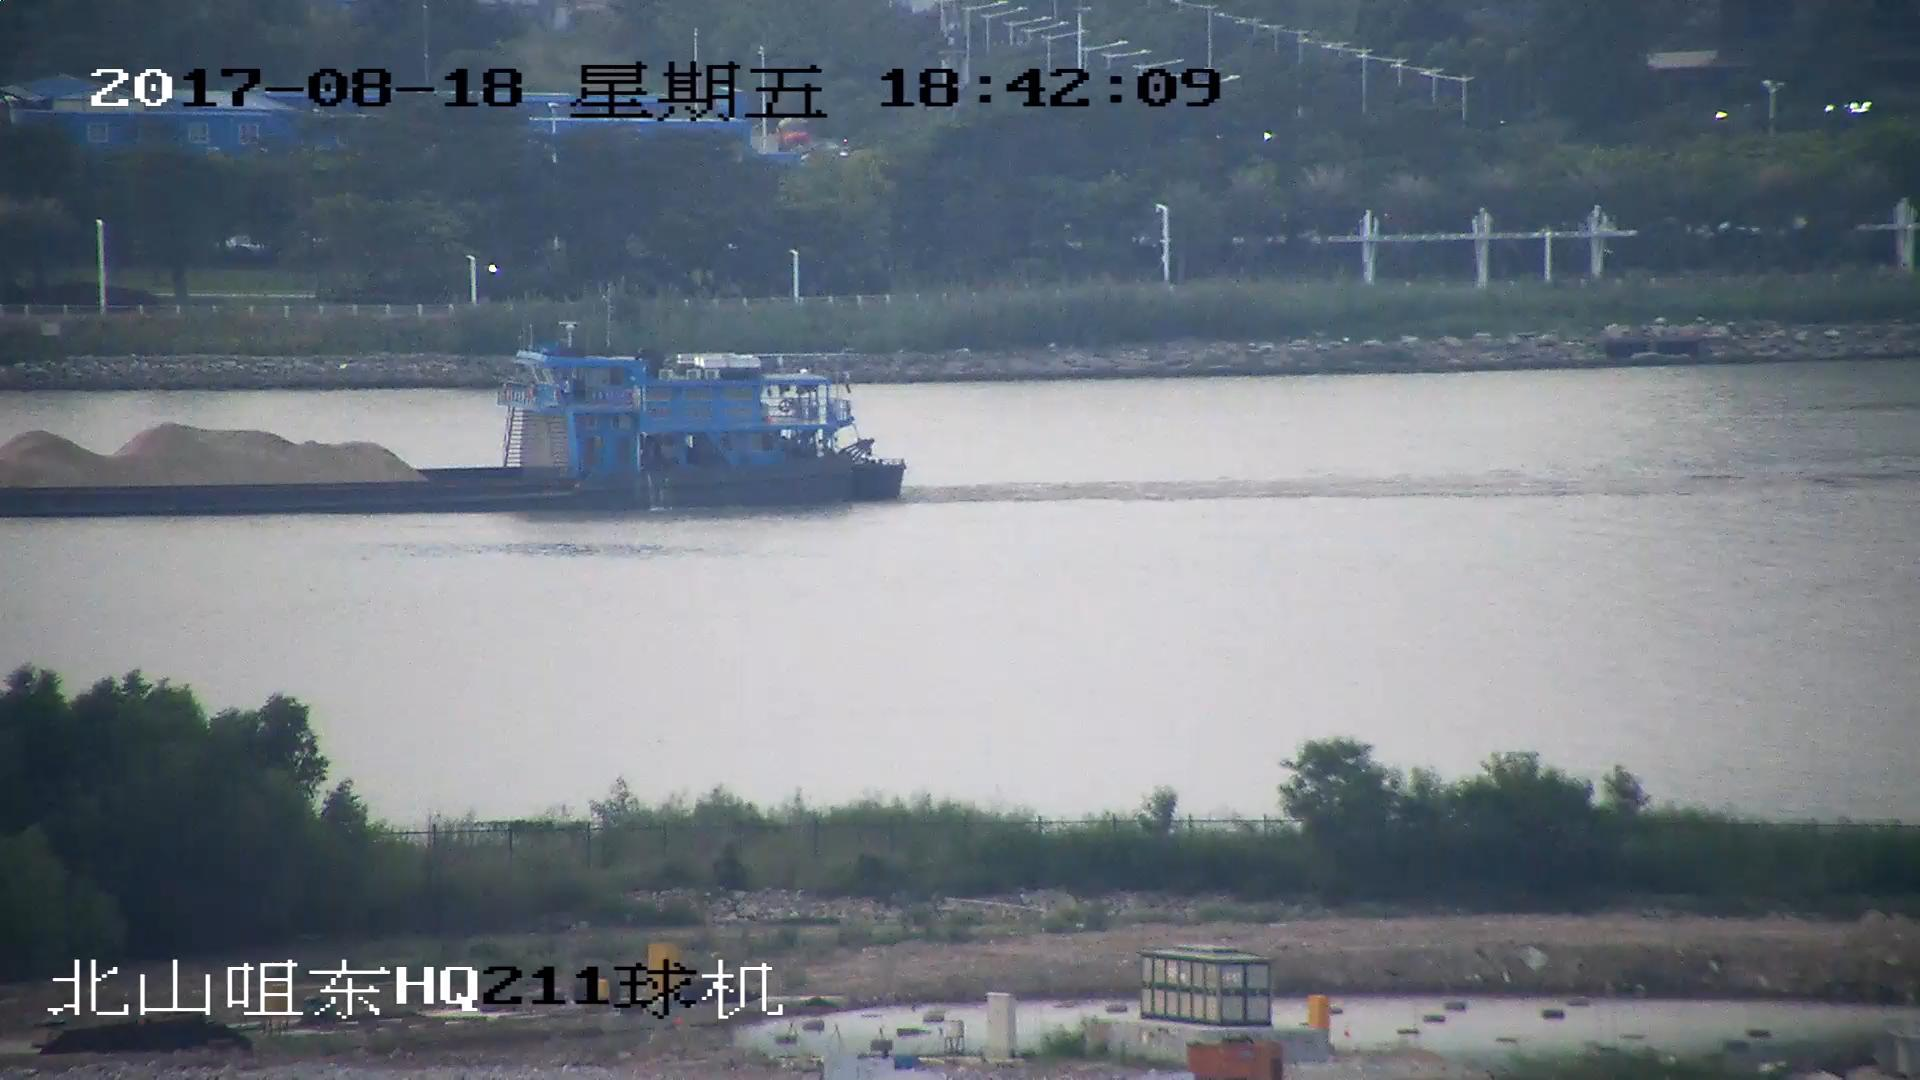Ship: (3, 331, 910, 516)
